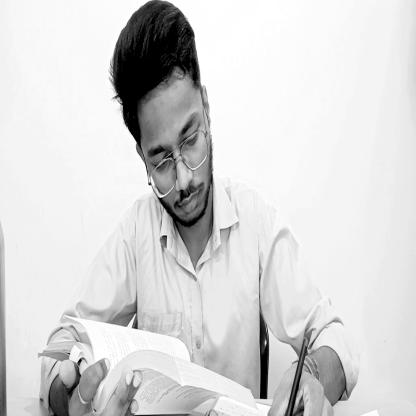Distracted: (111, 3, 218, 235)
